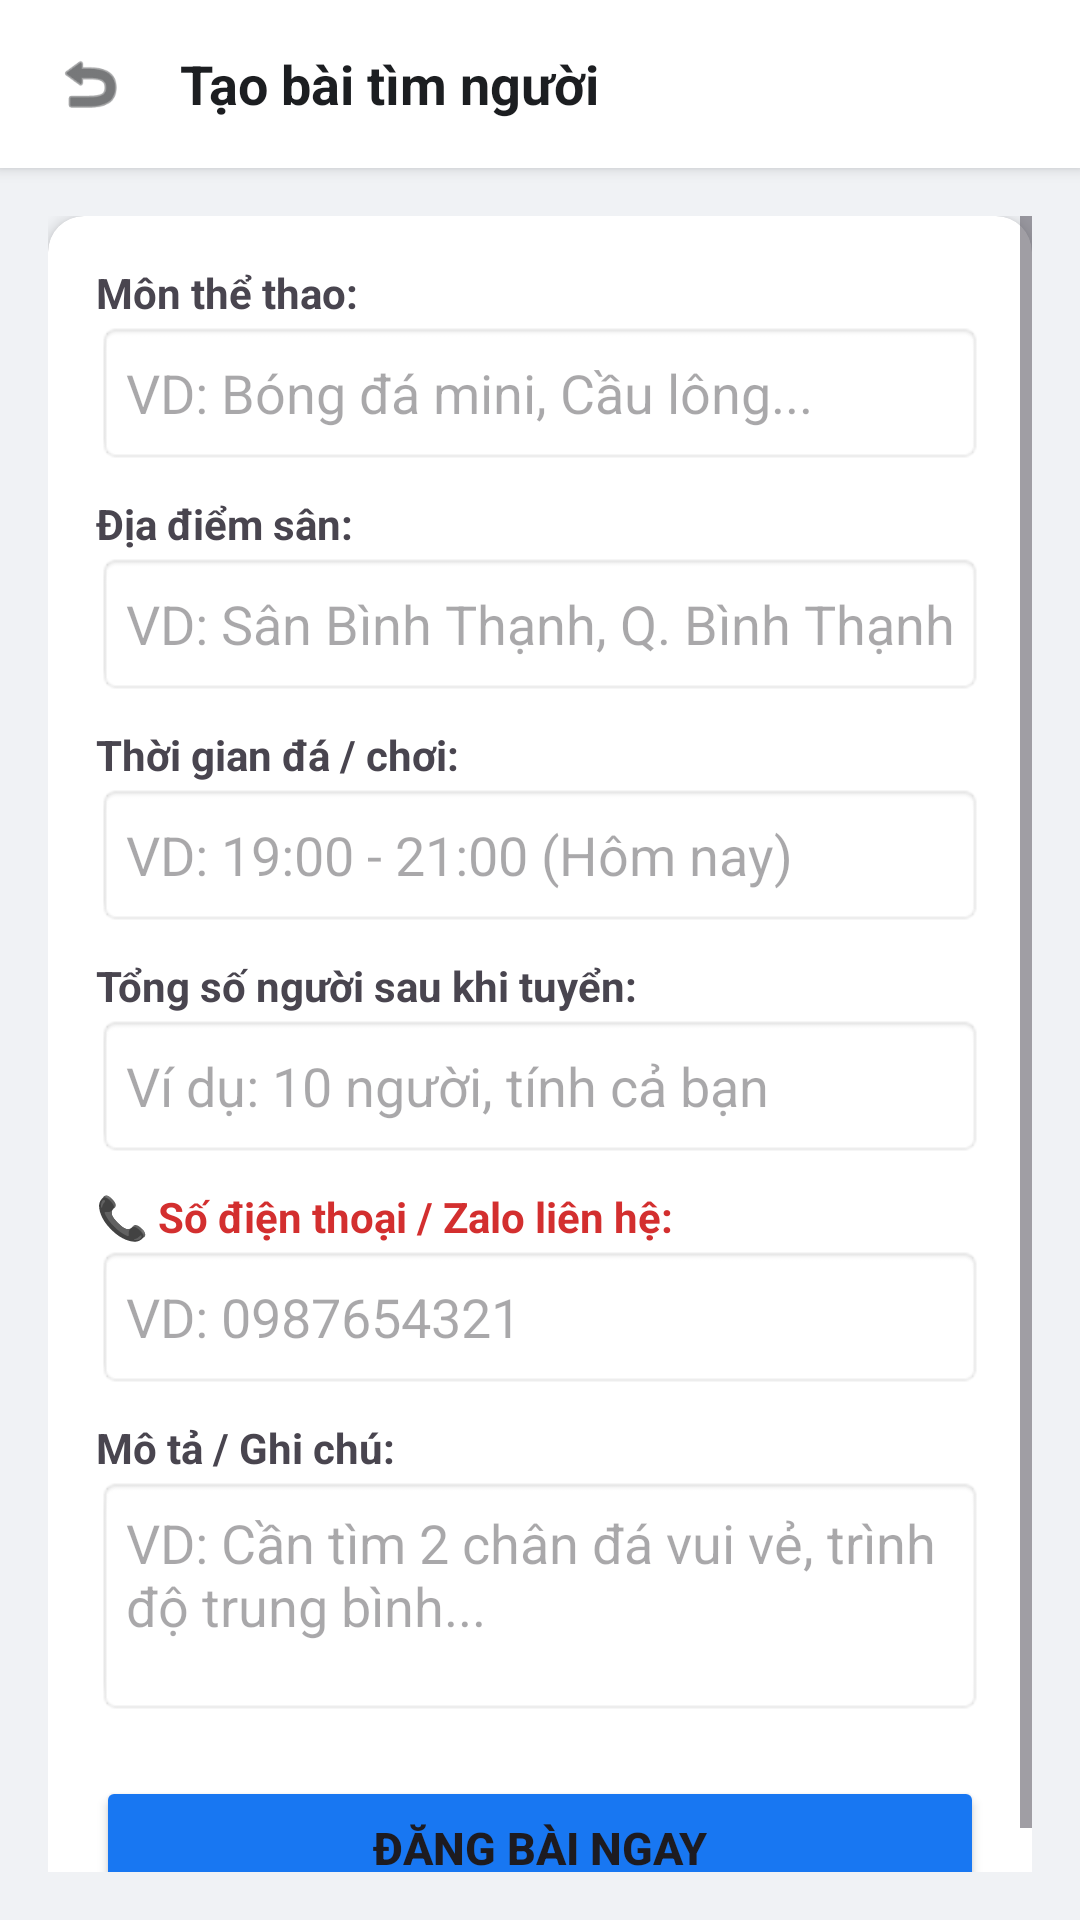

Screen size 1080px x 1920px. Icon name, then its box in pixels as (x1, y1, x2, y2):
revert: (65, 61, 117, 108)
